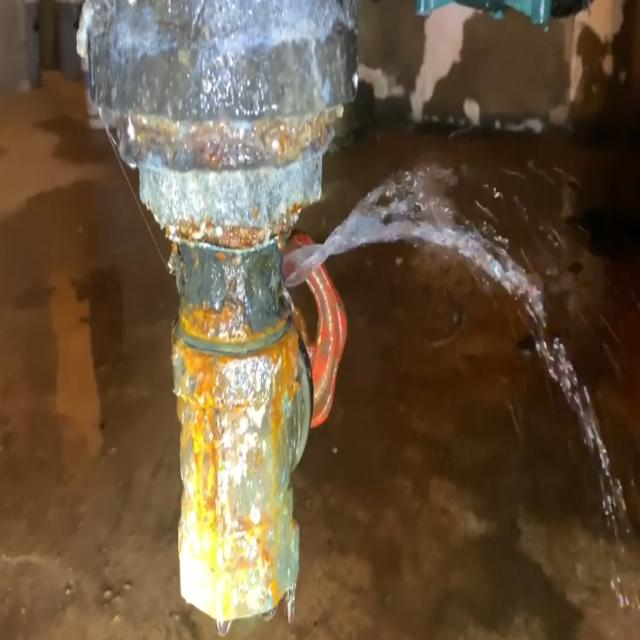leak: (282, 167, 628, 534)
